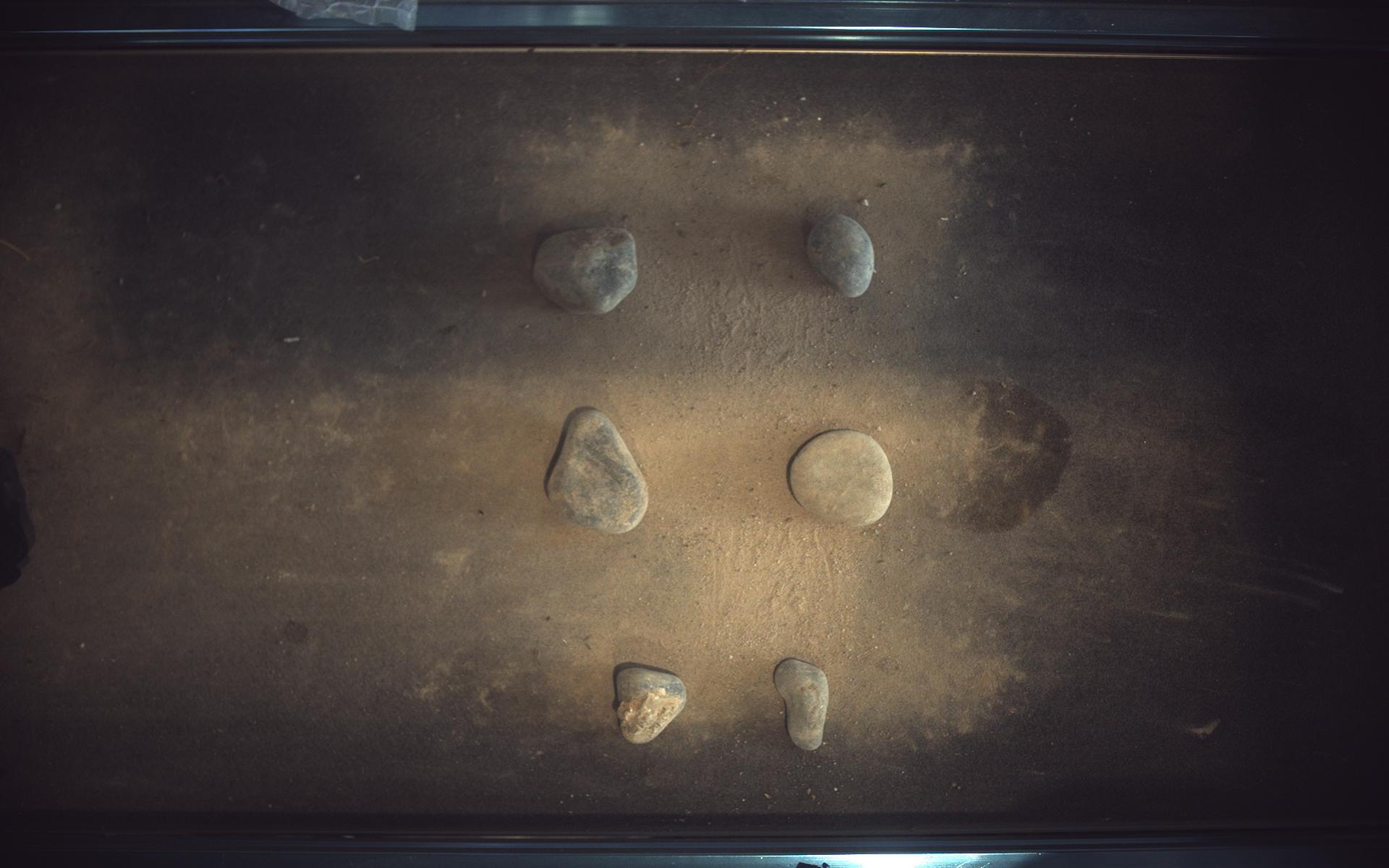stone: (548, 409, 650, 534), (791, 430, 895, 527), (533, 226, 638, 314), (615, 665, 687, 745), (808, 213, 876, 297), (775, 660, 831, 752)
